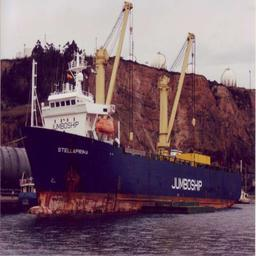Ship: (28, 70, 244, 220)
